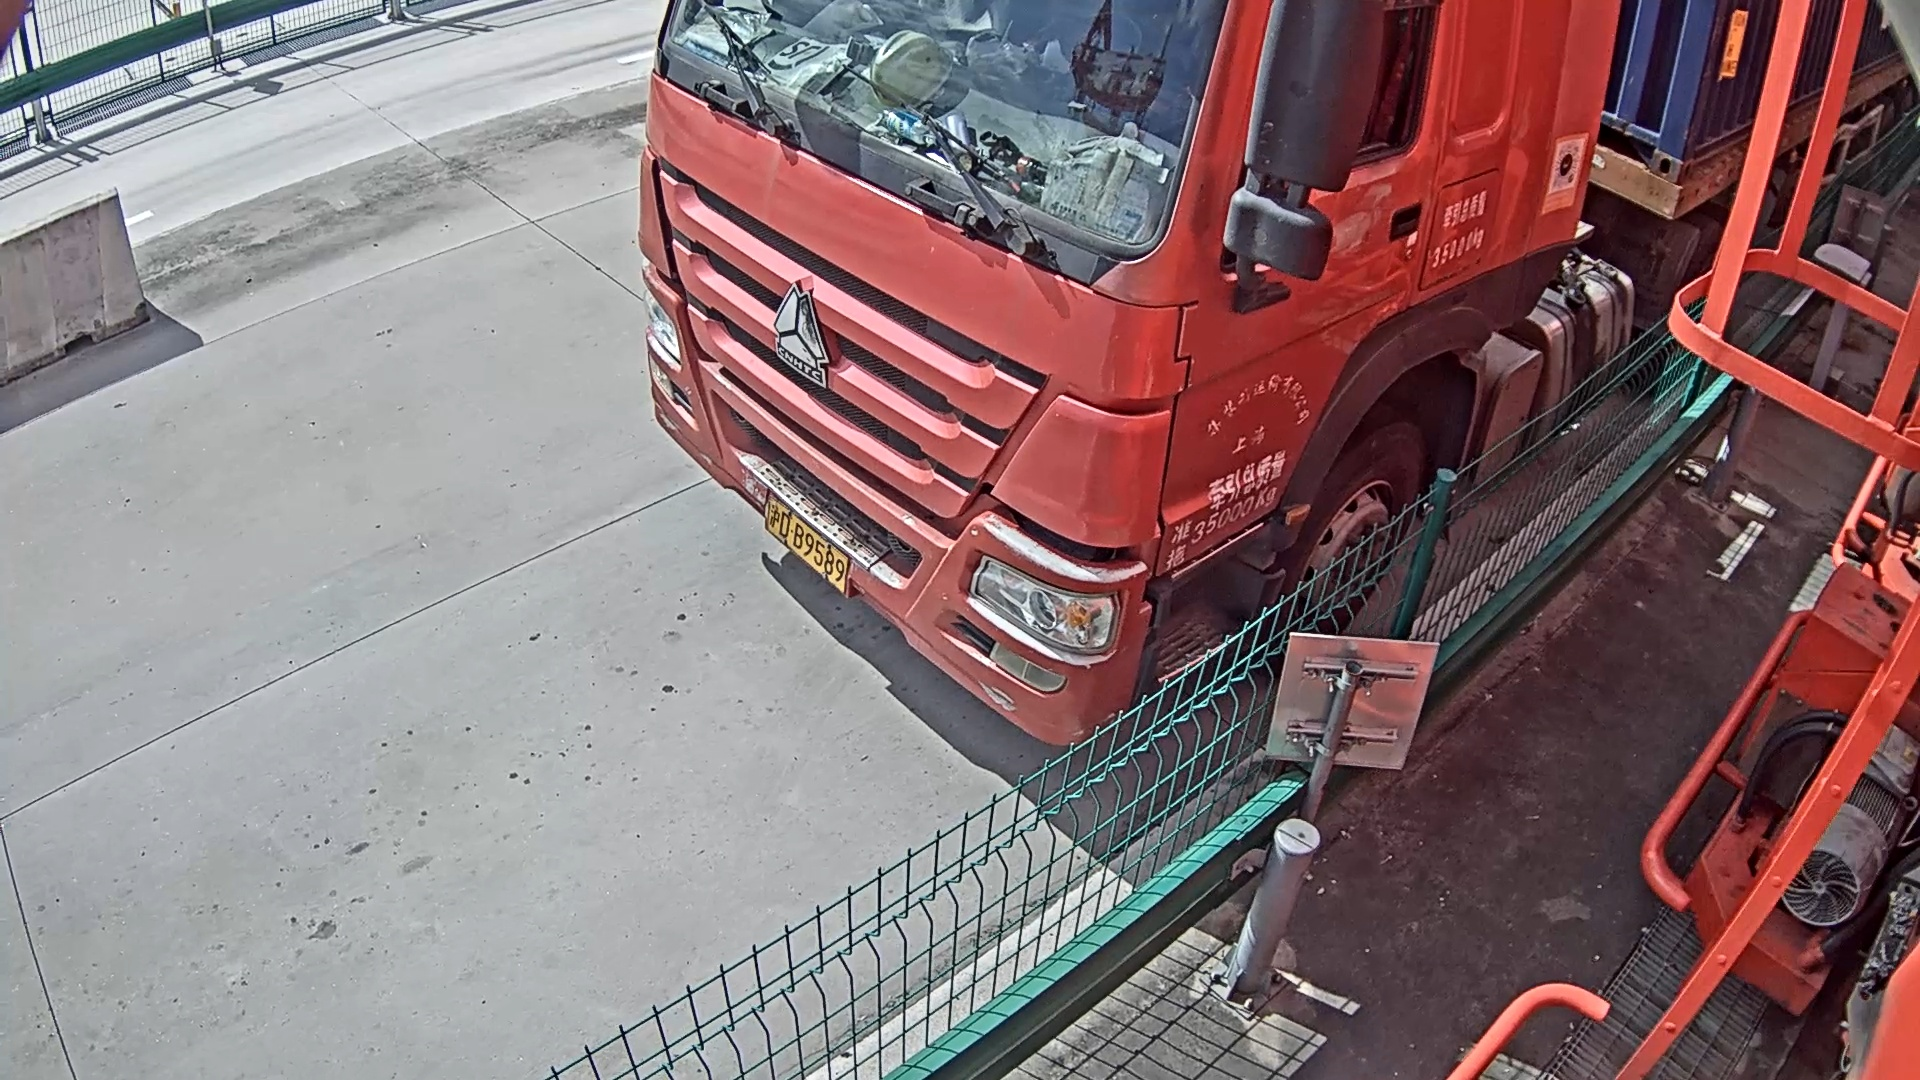head: (628, 1, 1641, 763)
plate: (767, 490, 851, 597)
